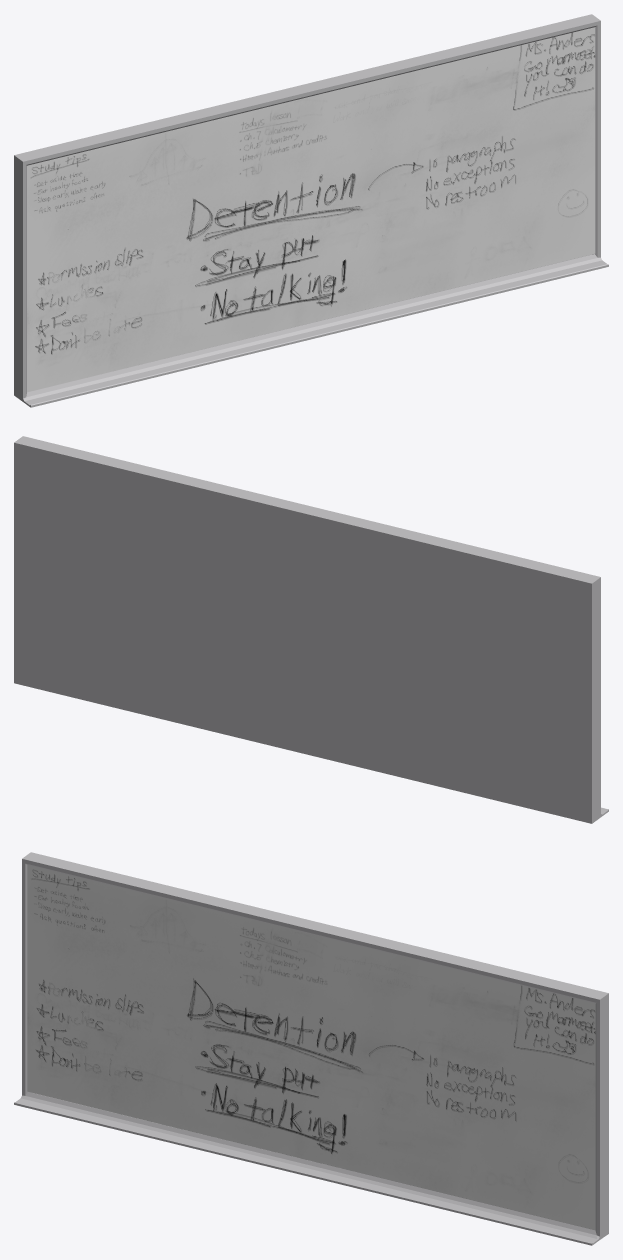
Rendered from Whiteboard Modified.fbx.
3 renders of one model, top to bottom at view 1: azimuth 30°, elevation 25°; view 2: azimuth 150°, elevation 25°; view 3: azimuth 330°, elevation 25°, orthographic.
Parts seen in each view (by area): view 1: Whiteboard, Whiteboard Metal; view 2: Whiteboard Metal; view 3: Whiteboard, Whiteboard Metal.
Boxes of the visible parts, bbox=[...] form: Whiteboard: bbox=[27, 27, 595, 392]; Whiteboard Metal: bbox=[14, 14, 608, 407]; Whiteboard Metal: bbox=[14, 436, 608, 823]; Whiteboard: bbox=[27, 865, 595, 1229]; Whiteboard Metal: bbox=[14, 852, 608, 1245].
Size of the model in its own units: 9.76 by 3.88 by 0.496.
Materials: 2 (1 with a texture image).
